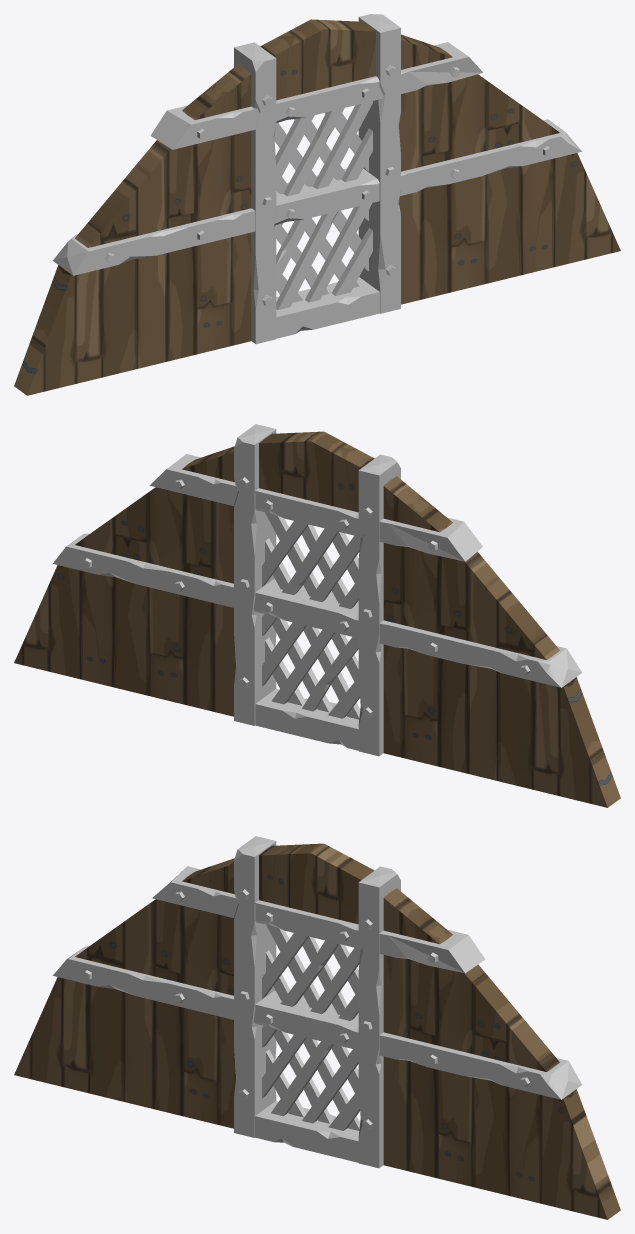
The model's file is SM_Bld_House_Roof_Wall_End_Curved_01.fbx.
3 views of the same model, one above another, from view 1: azimuth 30°, elevation 25°; view 2: azimuth 150°, elevation 25°; view 3: azimuth 330°, elevation 25° (orthographic).
Visible parts, largest first — view 1: SM_Bld_House_Roof_Wall_End_Curved_01; view 2: SM_Bld_House_Roof_Wall_End_Curved_01; view 3: SM_Bld_House_Roof_Wall_End_Curved_01.
Part boxes in pixels (bbox=[...]): SM_Bld_House_Roof_Wall_End_Curved_01: bbox=[14, 14, 620, 395]; SM_Bld_House_Roof_Wall_End_Curved_01: bbox=[14, 424, 620, 807]; SM_Bld_House_Roof_Wall_End_Curved_01: bbox=[14, 836, 620, 1219].
Size of the model in its own units: 583 by 277 by 44.84.
